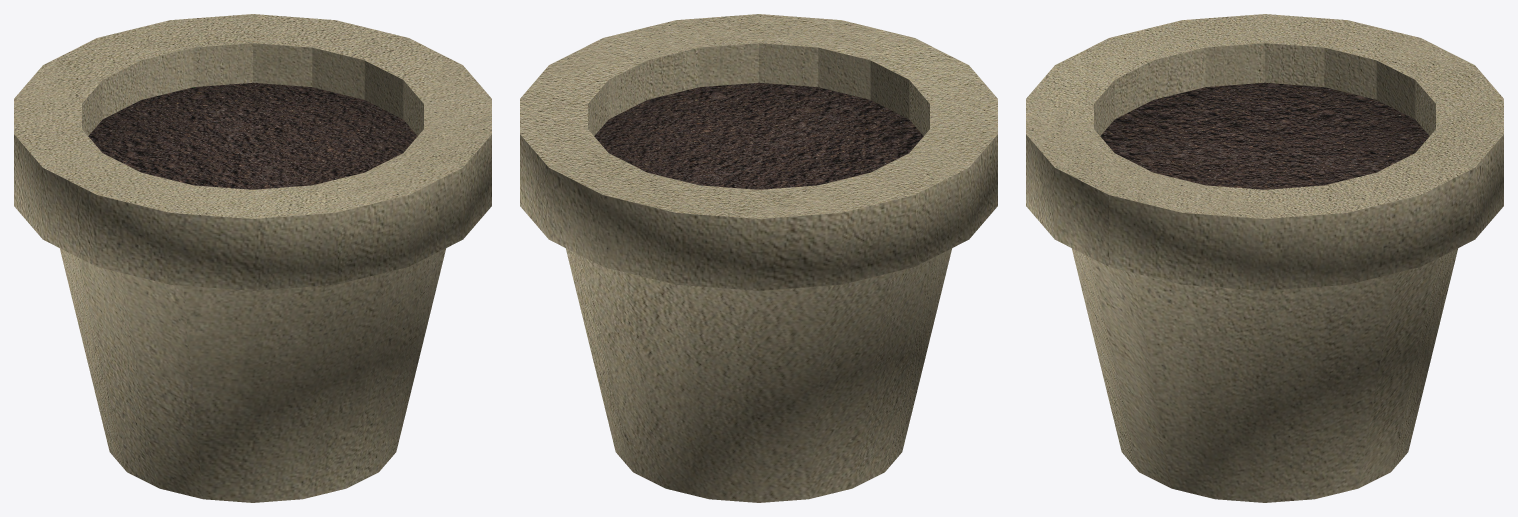
File: Flower Pot.FBX
3 renders of one model, left to right at view 1: azimuth 30°, elevation 25°; view 2: azimuth 150°, elevation 25°; view 3: azimuth 270°, elevation 25°, orthographic.
Parts seen in each view (by area): view 1: Cylinder001; view 2: Cylinder001; view 3: Cylinder001.
Part boxes in pixels (box(x1,y1,x2,y2)): Cylinder001: box(14, 14, 491, 502); Cylinder001: box(520, 14, 997, 502); Cylinder001: box(1026, 14, 1503, 502).
Size of the model in its own units: 69.63 by 51.46 by 68.57.
